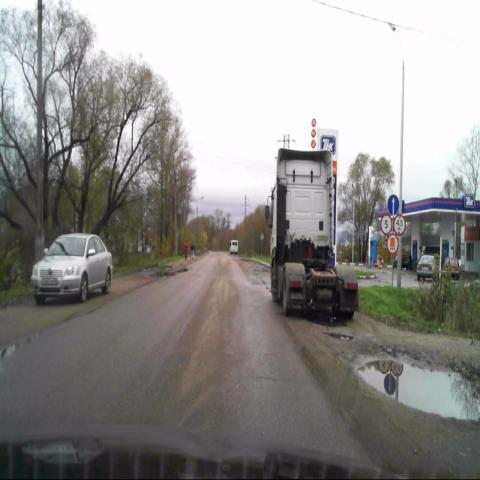3_13: (394, 215, 406, 235)
3_32: (386, 234, 399, 256)
